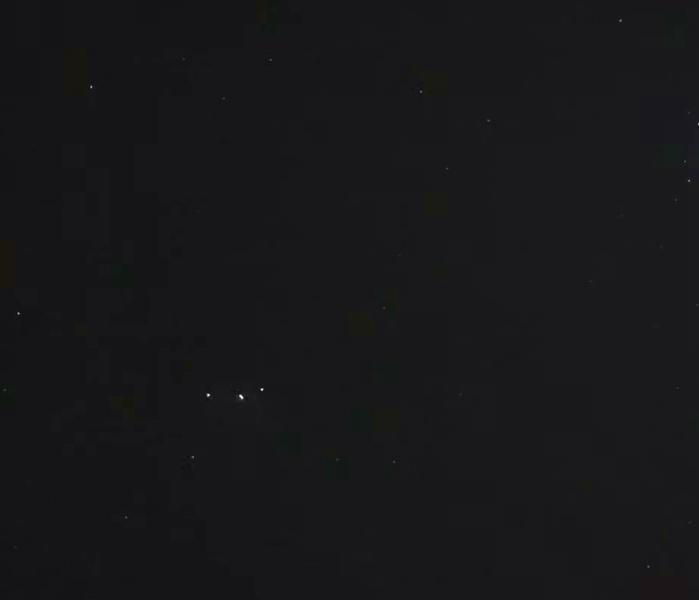Plane: (207, 378, 278, 411)
